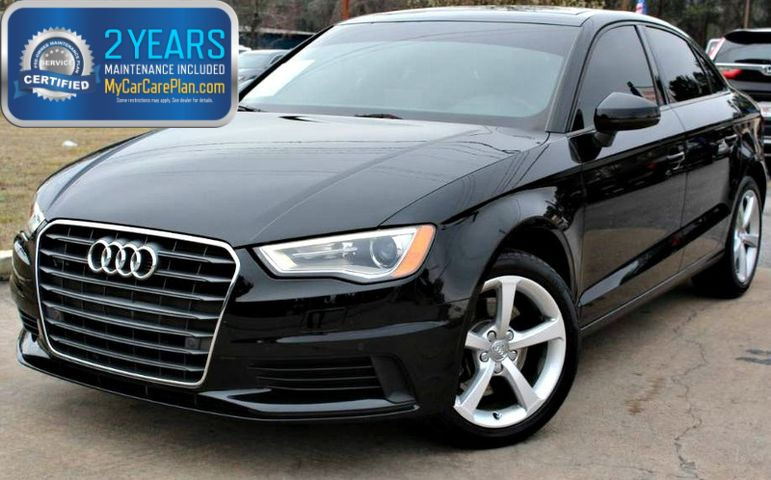audi: (80, 234, 165, 283)
